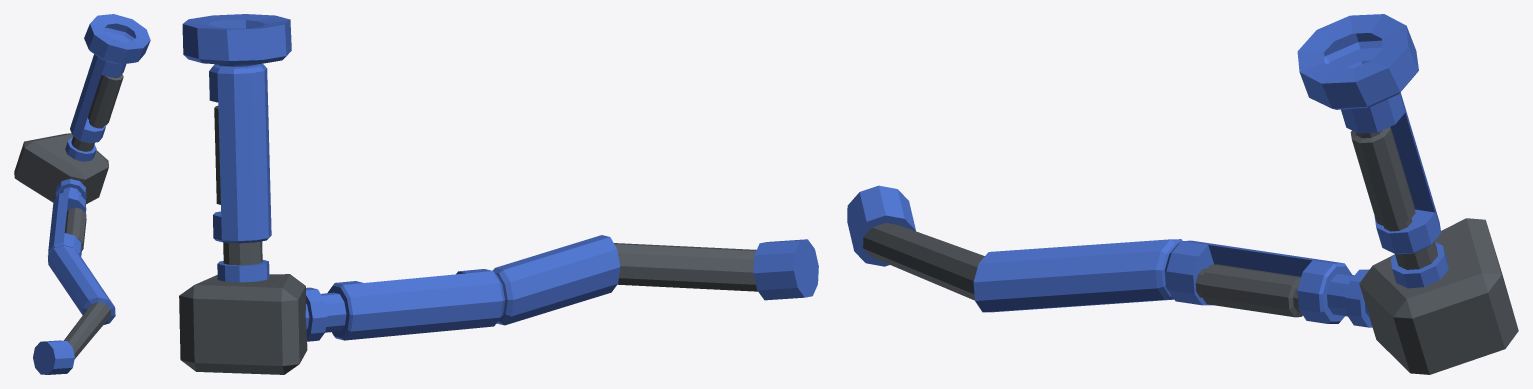
The model's file is Fighter_03_Leg_Frame_Left_Blue.fbx.
3 renders of one model, left to right at view 1: azimuth 30°, elevation 25°; view 2: azimuth 150°, elevation 25°; view 3: azimuth 270°, elevation 25°, orthographic. The views are drawn at different scales.
Visible parts, largest first — view 1: Fighter_03_Leg_Frame_Left_Blue; view 2: Fighter_03_Leg_Frame_Left_Blue; view 3: Fighter_03_Leg_Frame_Left_Blue.
Boxes of the visible parts, x1=… form: Fighter_03_Leg_Frame_Left_Blue: x1=14, y1=14, x2=150, y2=374; Fighter_03_Leg_Frame_Left_Blue: x1=179, y1=14, x2=818, y2=374; Fighter_03_Leg_Frame_Left_Blue: x1=847, y1=14, x2=1518, y2=374.
Size of the model in its own units: 155 by 135 by 205.
1 material, 1 textured.
